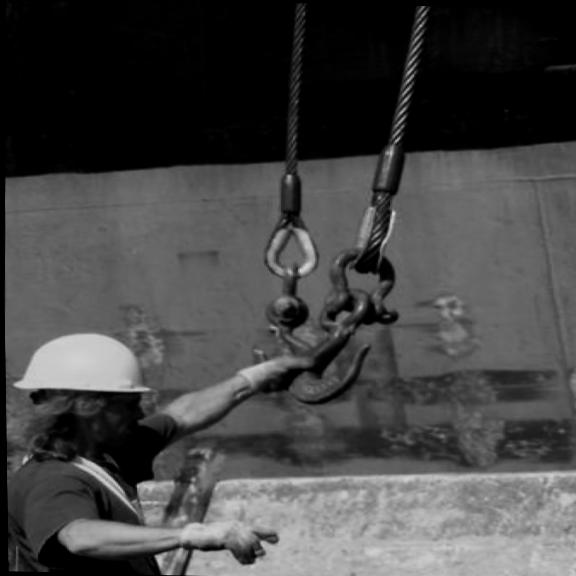safety_vest: (6, 437, 173, 575)
